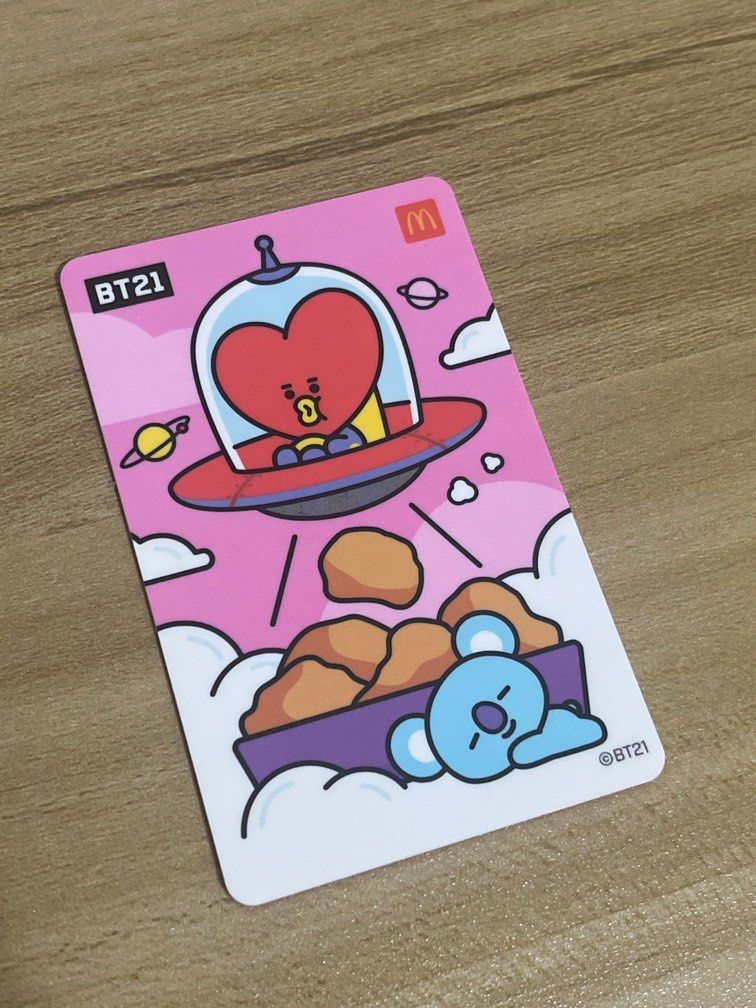card: (61, 182, 689, 909)
